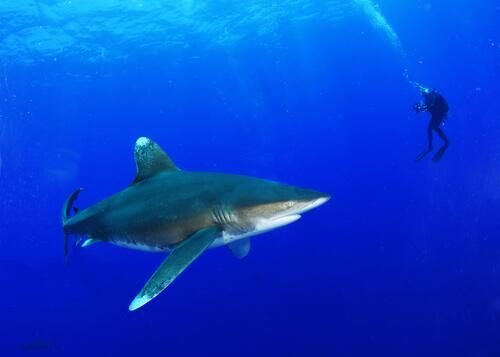shark: (62, 136, 332, 312)
